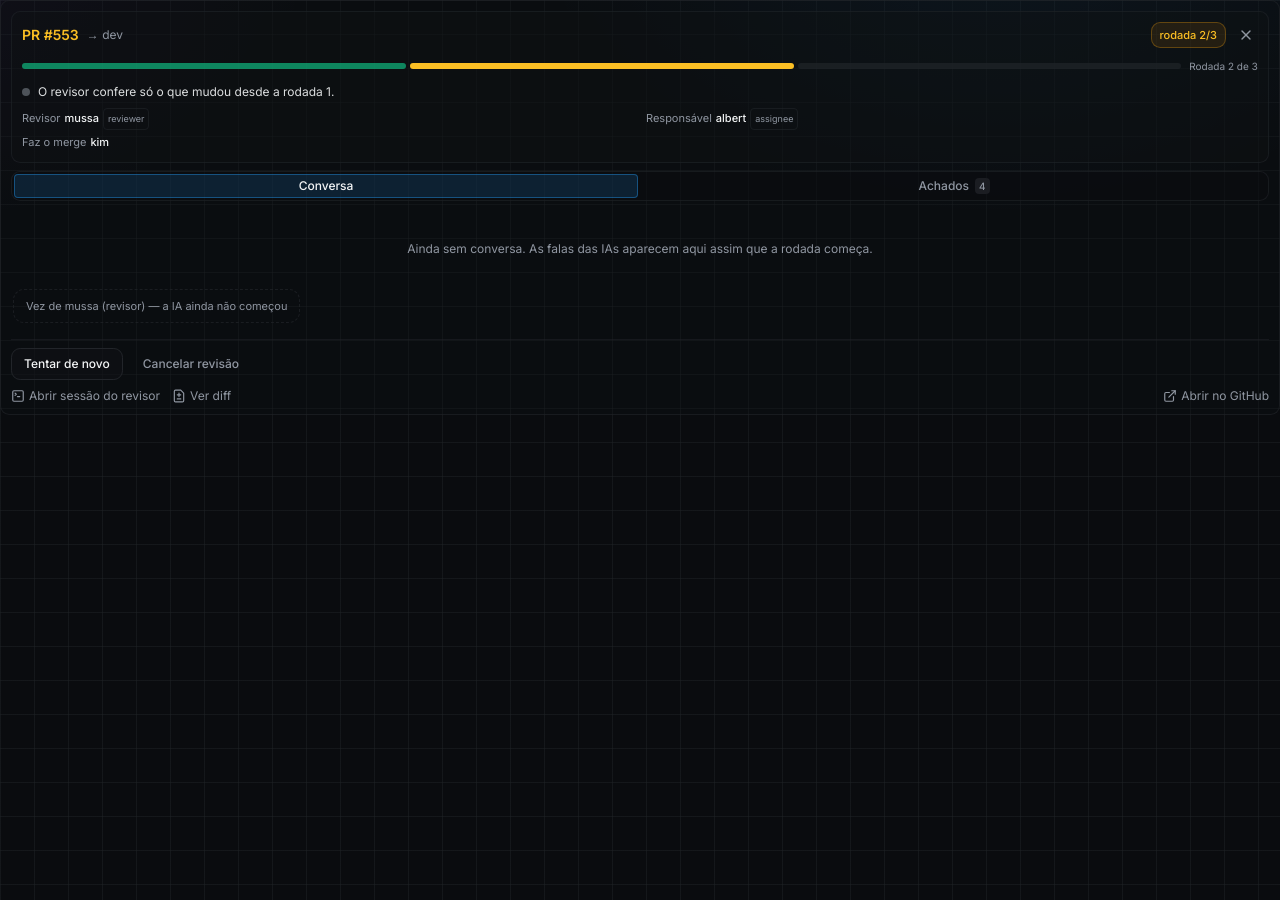
Test: ReviewPanel — o que mostra › cada grupo diz em palavras o que aquele tipo é, com quantos tem e quantos estão em aberto
What coordinates should you click on to do the following:
click the tab "Achados 4"
I would click on:
 (954, 186)
Its box is x1=642 y1=174 x2=1266 y2=198.
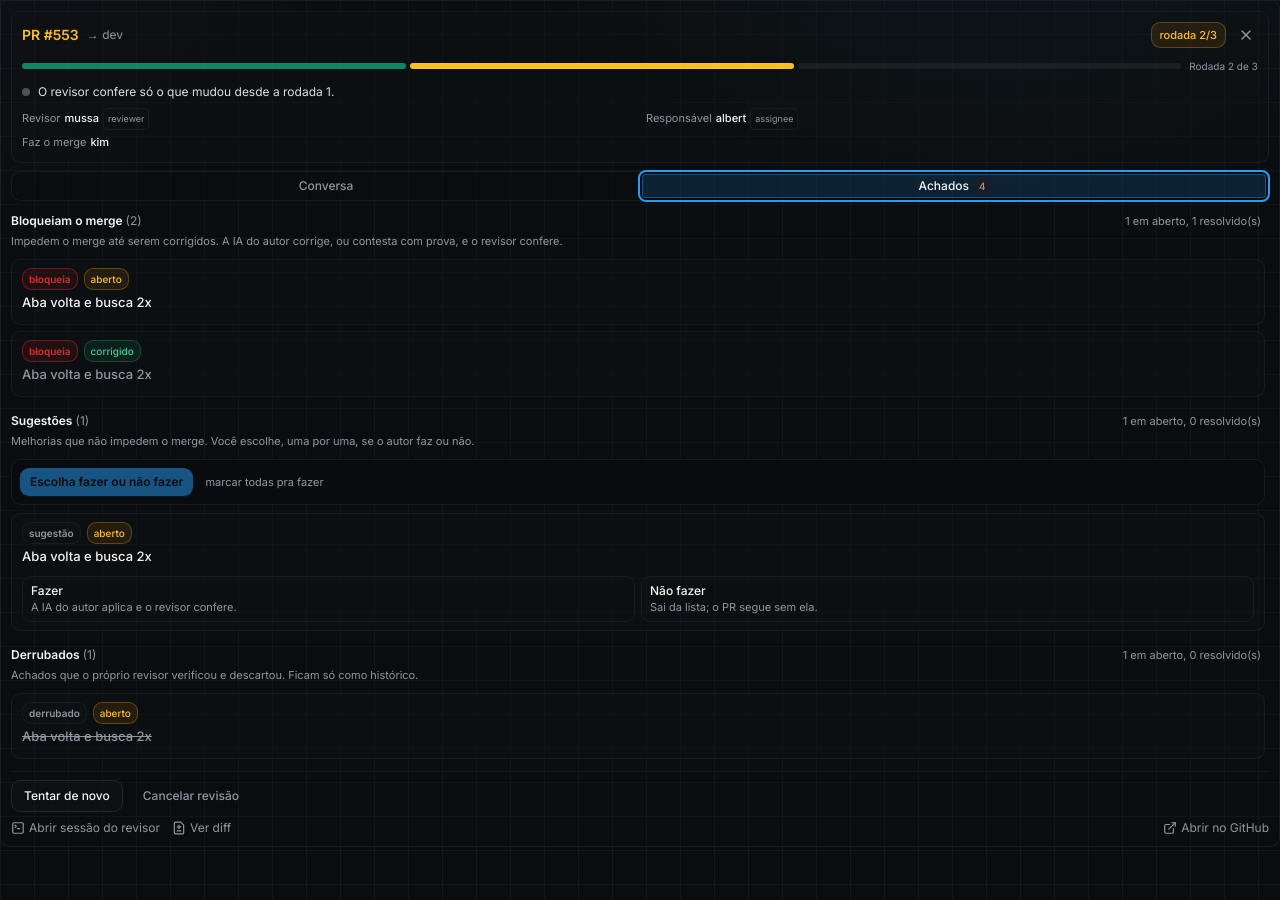
Expected: the heading "Bloqueiam o merge (2) 1 em aberto, 1 resolvido(s)" is shown, x1=11 y1=213 x2=1261 y2=229
Expected: the text "Impedem o merge até serem corrigidos" is shown, x1=11 y1=234 x2=563 y2=248
Expected: the text "Melhorias que não impedem o merge" is shown, x1=11 y1=434 x2=474 y2=448
